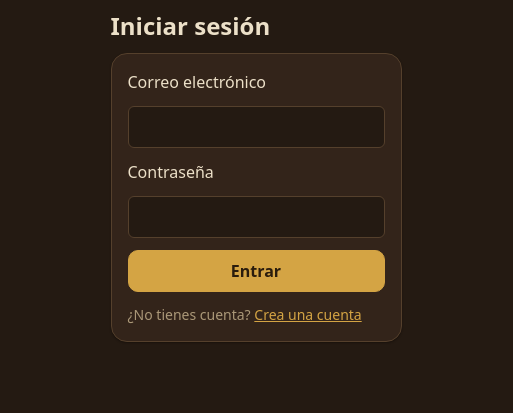
LoginPage › shows an honest message when there is no backend, leaving the session clean
Step 1. Type "ana@example.com" into the field labelled "Correo electrónico" → [256, 127], box [128,106,384,148]
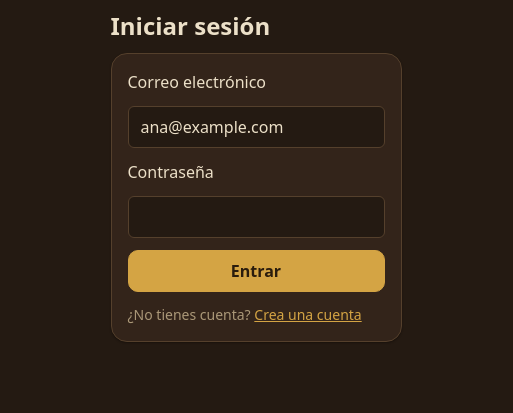
Step 2. Type "secret" into the password field labelled "Contraseña" → [256, 217], box [128,196,384,238]
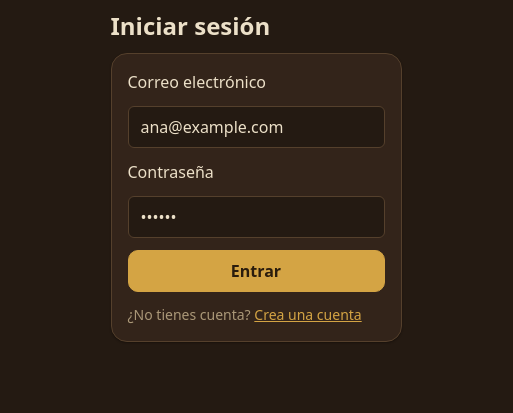
Step 3. Click the button "Entrar" → [256, 271], box [128,250,384,292]
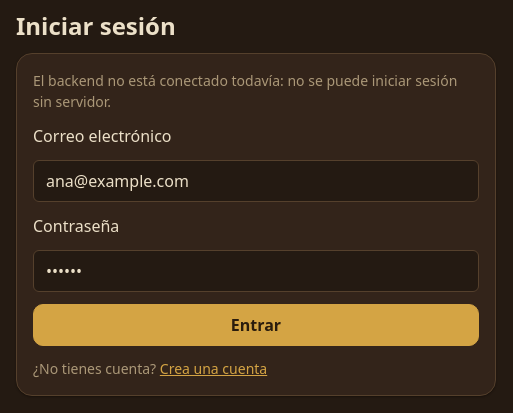
Result: the message shows "no está conectado" at [33,71,457,111]
